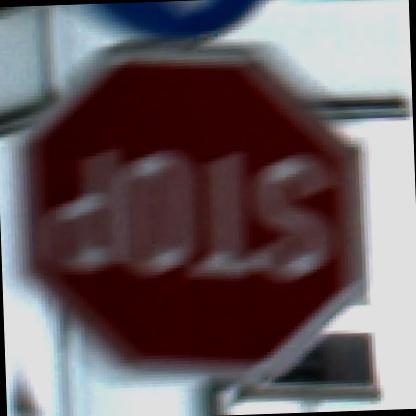stop: (6, 39, 380, 401)
